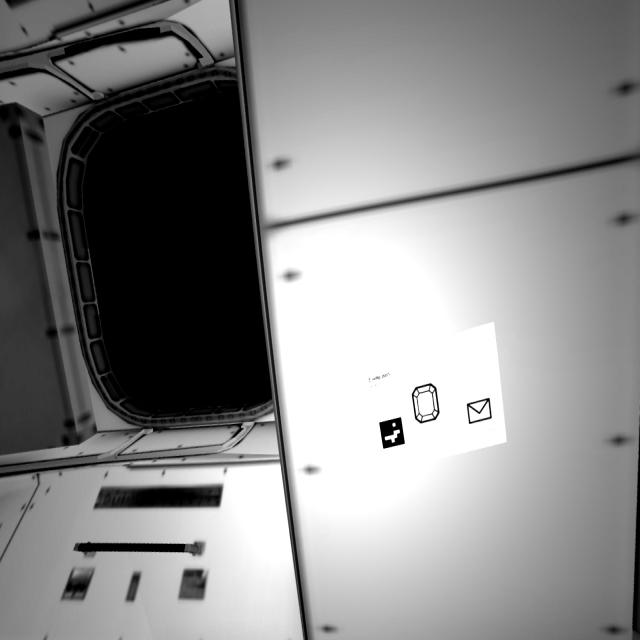emerald: (410, 381, 445, 428)
letter: (464, 398, 501, 432)
